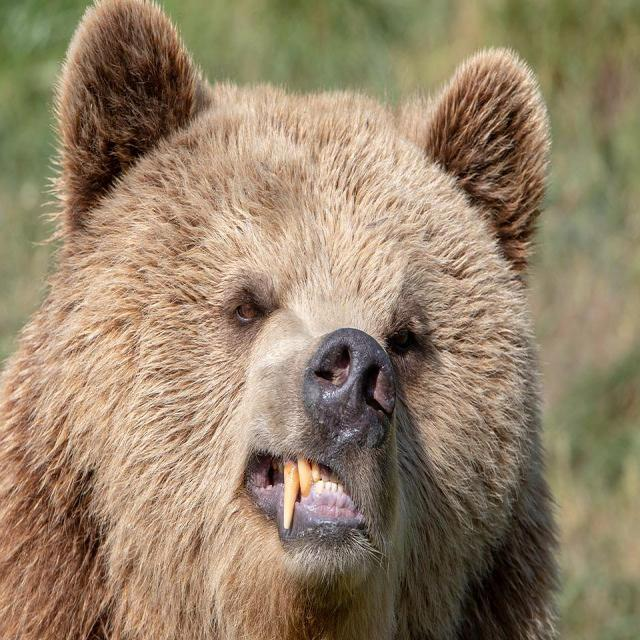Bear: (0, 0, 561, 640)
